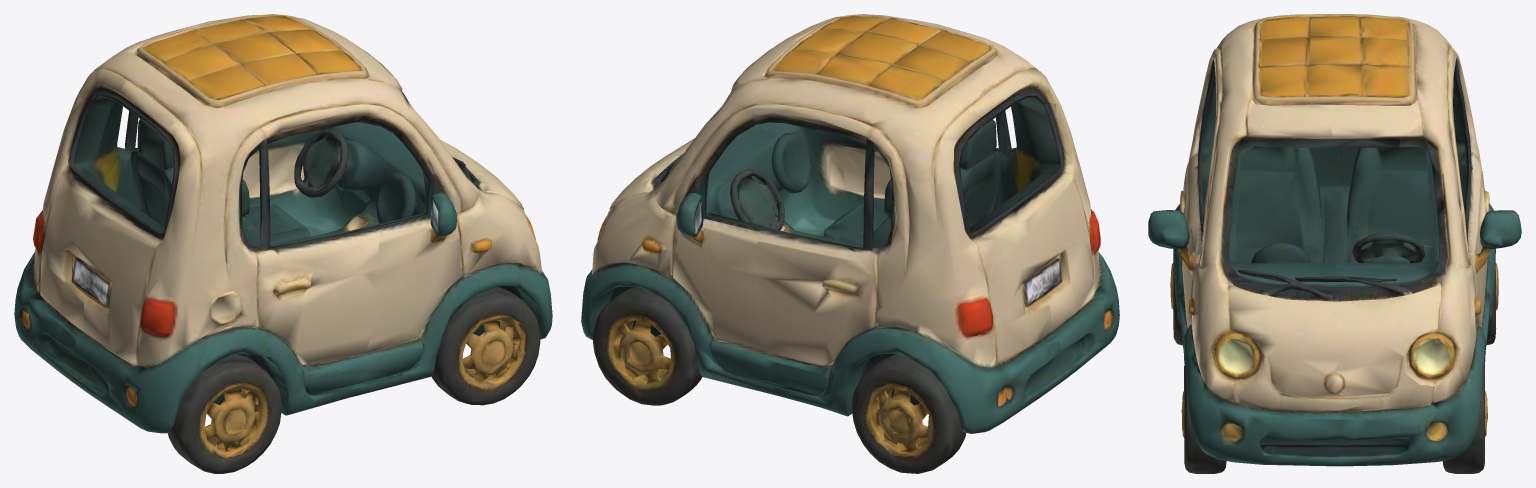
Rendered from mv01-sunpod-microcar.glb.
3 views of the same model, side by side, from view 1: azimuth 30°, elevation 25°; view 2: azimuth 150°, elevation 25°; view 3: azimuth 270°, elevation 25° (orthographic).
Visible parts, largest first — view 1: tripo_node_22e7882d-609a-42bf-9c8f-c0d46e884c79; view 2: tripo_node_22e7882d-609a-42bf-9c8f-c0d46e884c79; view 3: tripo_node_22e7882d-609a-42bf-9c8f-c0d46e884c79.
Boxes of the visible parts, x1,y1,x2,y2 form: tripo_node_22e7882d-609a-42bf-9c8f-c0d46e884c79: [14, 14, 552, 473]; tripo_node_22e7882d-609a-42bf-9c8f-c0d46e884c79: [581, 14, 1119, 473]; tripo_node_22e7882d-609a-42bf-9c8f-c0d46e884c79: [1148, 14, 1521, 473].
Size of the model in its own units: 0.9998 by 0.7581 by 0.7521.
Materials: 1 (1 with a texture image).
